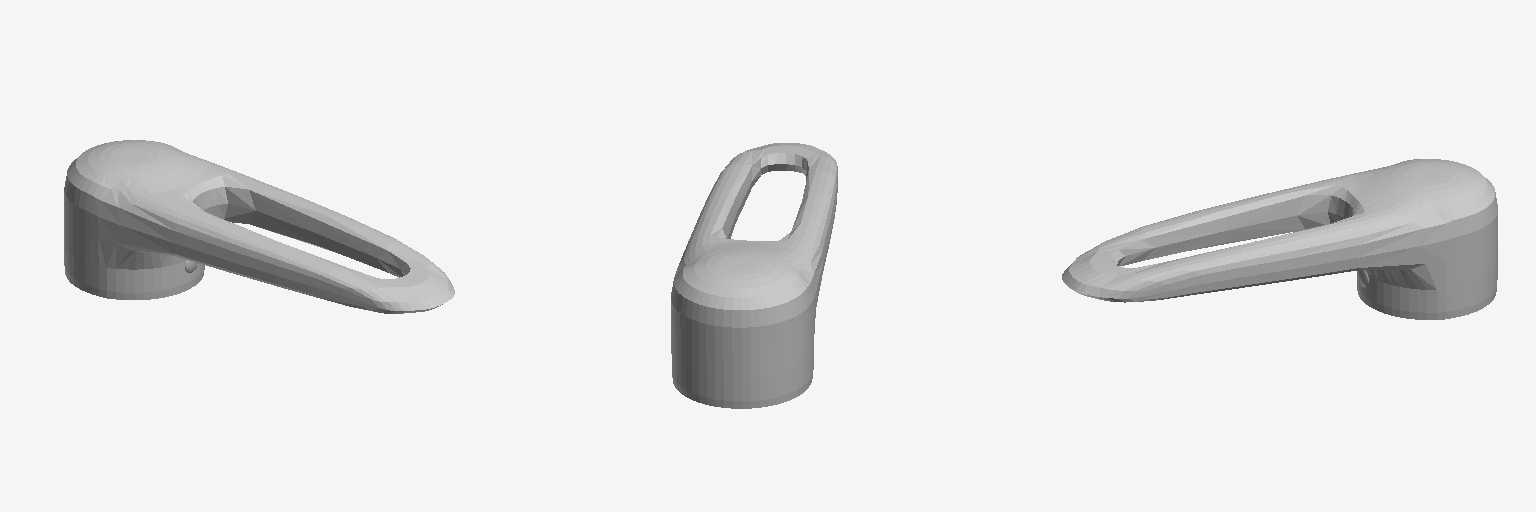
The model's file is sink_faucetHandle.obj.
3 views of the same model, side by side, from view 1: azimuth 30°, elevation 25°; view 2: azimuth 150°, elevation 25°; view 3: azimuth 270°, elevation 25° (orthographic).
Visible parts, largest first — view 1: Faucet_Handle; view 2: Faucet_Handle; view 3: Faucet_Handle.
Boxes of the visible parts, <box> form: Faucet_Handle: <box>64,140,454,313</box>; Faucet_Handle: <box>671,143,837,408</box>; Faucet_Handle: <box>1062,159,1497,319</box>.
Size of the model in its own units: 14.93 by 7.64 by 25.94.